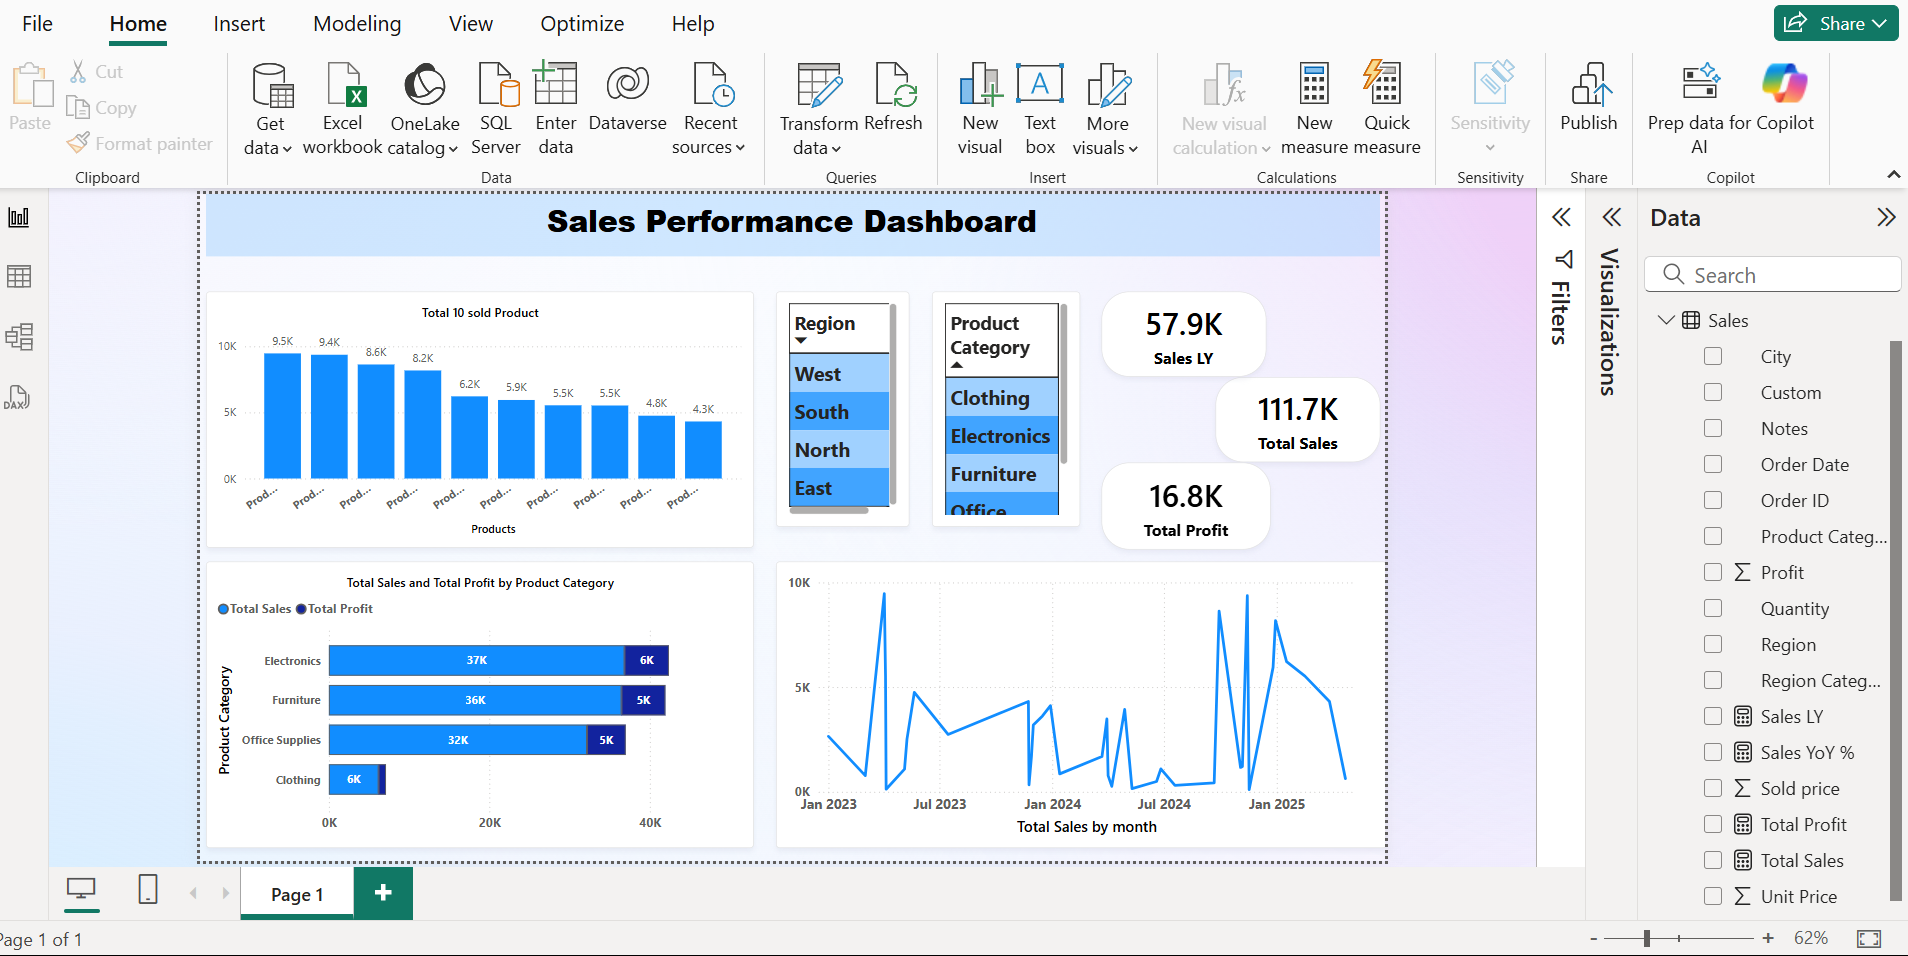

Layout of this report page (visuals, bound fields, positions):
{"tool":"powerbi","page":{"name":"Page 1","canvas":[1280,720],"ordinal":0},"visuals":[{"type":"card","fields":{"Values":["Sales.Total Sales"]},"box":[1096.2,197.5,178.1,92.3],"z":0},{"type":"lineChart","fields":{"Category":["Date.Date"],"Y":["Sales.Total Sales"]},"box":[621.8,396.7,659,309.3],"z":1000},{"type":"barChart","fields":{"Y":["Sales.Total Sales","Sales.Total Profit"],"Category":["Sales.Product Category"]},"box":[6.5,396.7,591,309.3],"z":2000},{"type":"columnChart","title":"Total 10 sold Product","fields":{"Category":["Sales.Custom"],"Y":["Sales.Total Sales"]},"box":[6.5,105.2,591,276.9],"z":3000},{"type":"tableEx","fields":{"Values":["Sales.Region"]},"box":[621.8,105.2,144.1,254.2],"z":4000},{"type":"card","fields":{"Values":["Sales.Total Profit"]},"box":[973.2,289.8,183,93.9],"z":5000},{"type":"tableEx","fields":{"Values":["Sales.Product Category"]},"box":[790.2,105.2,160.3,254.2],"z":6000},{"type":"card","fields":{"Values":["Sales.Sales LY"]},"box":[973.2,105.2,178.1,92.3],"z":7000},{"type":"textbox","box":[7.1,0,1267.1,67.1],"z":8000}]}

Visuals, with their boxes on the page's 1280x720 design canvas (x1, y1, x2, y2). These are canvas units, not pixel positions in the 1908x956 screenshot, which may show the page scaled, cropped or inside an application window:
card - Sales.Total Sales: x1=1096 y1=198 x2=1274 y2=290
lineChart - Date.Date x Sales.Total Sales: x1=622 y1=397 x2=1281 y2=706
barChart - Sales.Total Sales x Sales.Total Profit: x1=6 y1=397 x2=598 y2=706
"Total 10 sold Product" columnChart: x1=6 y1=105 x2=598 y2=382
tableEx - Sales.Region: x1=622 y1=105 x2=766 y2=359
card - Sales.Total Profit: x1=973 y1=290 x2=1156 y2=384
tableEx - Sales.Product Category: x1=790 y1=105 x2=950 y2=359
card - Sales.Sales LY: x1=973 y1=105 x2=1151 y2=198
textbox: x1=7 y1=0 x2=1274 y2=67
